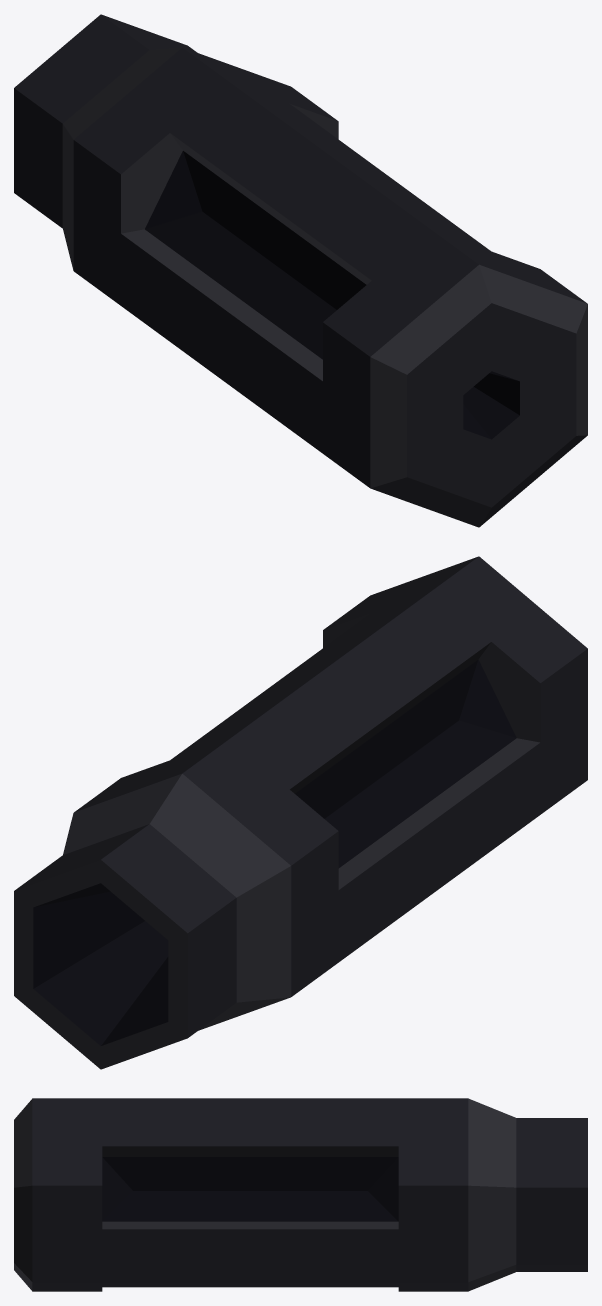
The model's file is MW1_MuzzleDevice_5.56mm_03.fbx.
The picture shows the model from 3 angles, top to bottom: view 1: azimuth 30°, elevation 25°; view 2: azimuth 150°, elevation 25°; view 3: azimuth 270°, elevation 25°; orthographic projection. The views are drawn at different scales.
Parts seen in each view (by area): view 1: MuzzleDevice_5.56mm_03; view 2: MuzzleDevice_5.56mm_03; view 3: MuzzleDevice_5.56mm_03.
Boxes of the visible parts, <box> form: MuzzleDevice_5.56mm_03: <box>14,14,587,527</box>; MuzzleDevice_5.56mm_03: <box>14,556,587,1069</box>; MuzzleDevice_5.56mm_03: <box>14,1098,587,1291</box>.
Bounding box in the file's own units: 1.85 × 2.14 × 5.76.
